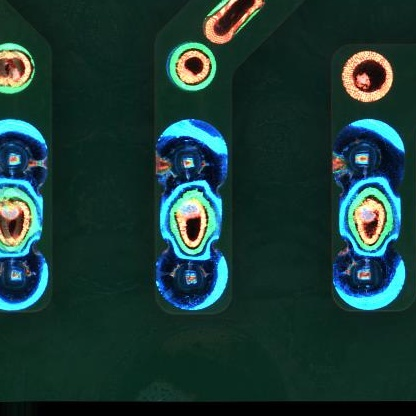spot: (155, 118, 230, 188), (332, 121, 407, 190), (154, 244, 228, 310), (333, 244, 407, 310), (1, 118, 48, 184), (1, 255, 48, 310)
